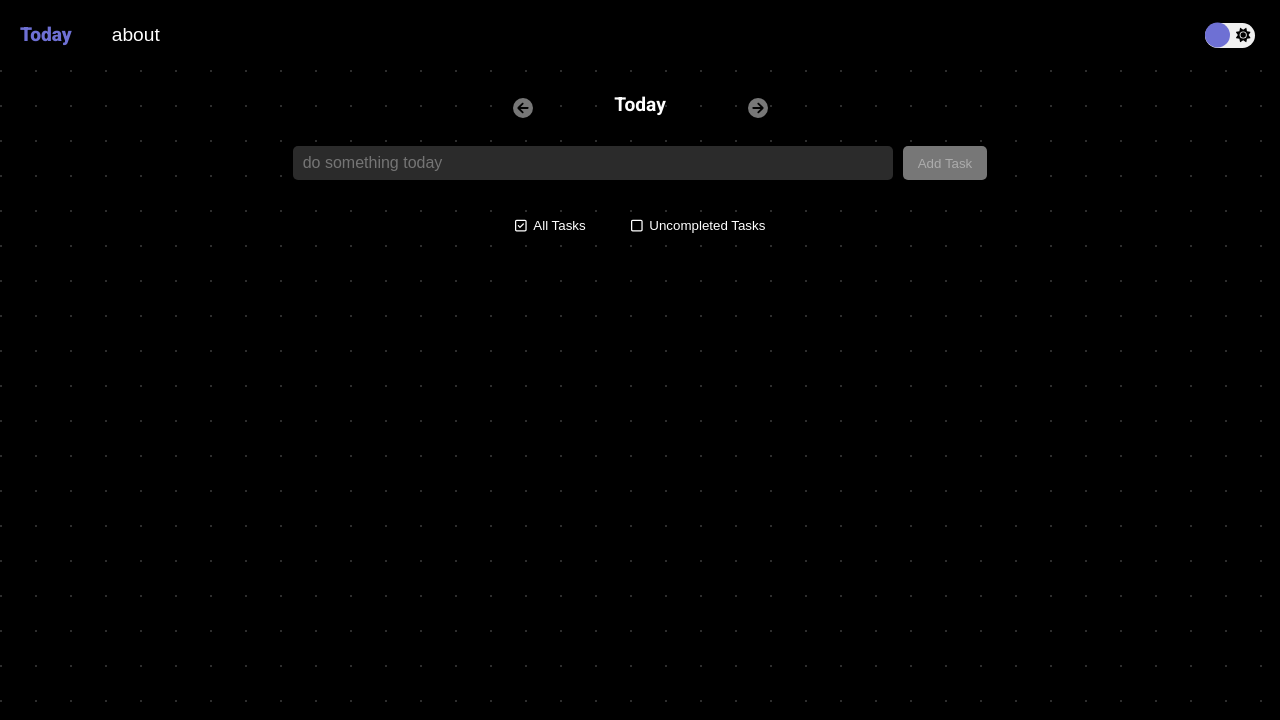
My First Test › Task Actions › Create new task
Type "hello world" into the field with test id "newTaskInput" at [593, 163], box [293,146,893,180]
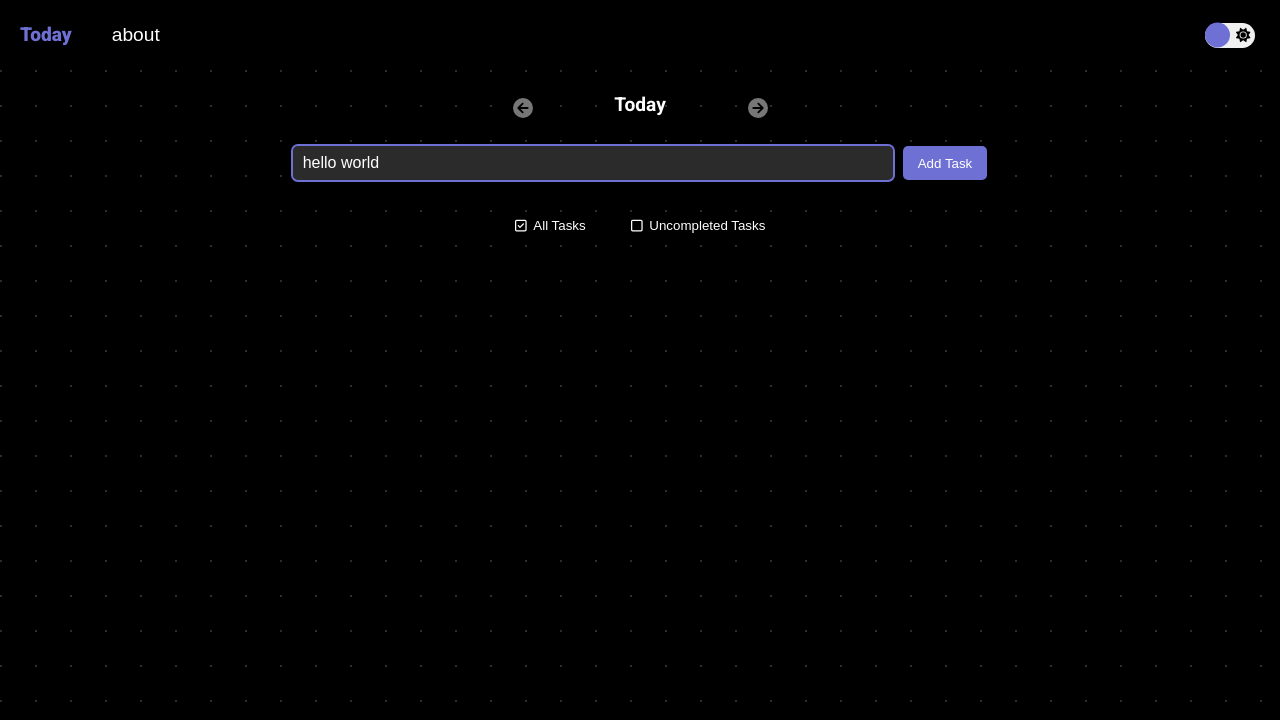
Click the button with test id "newTaskSubmit" at [946, 163], box [903,146,988,180]
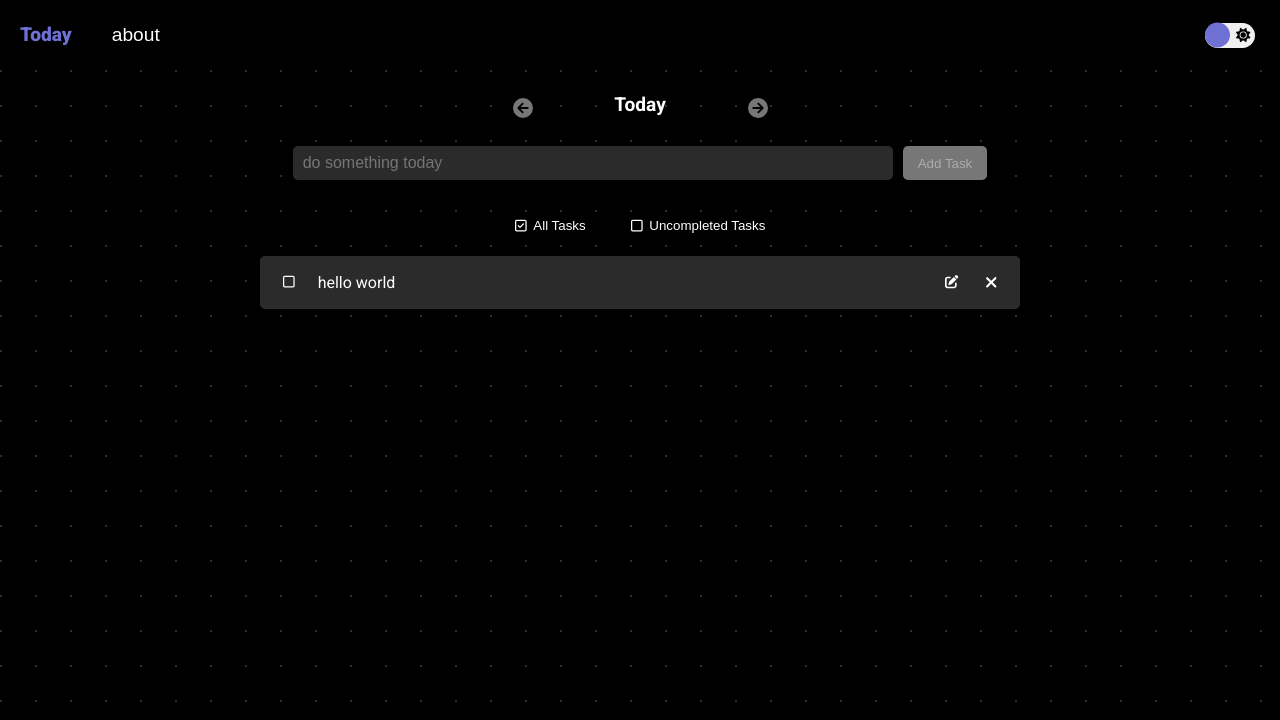
Expected: the text "hello world" is shown, [318,270,395,295]
